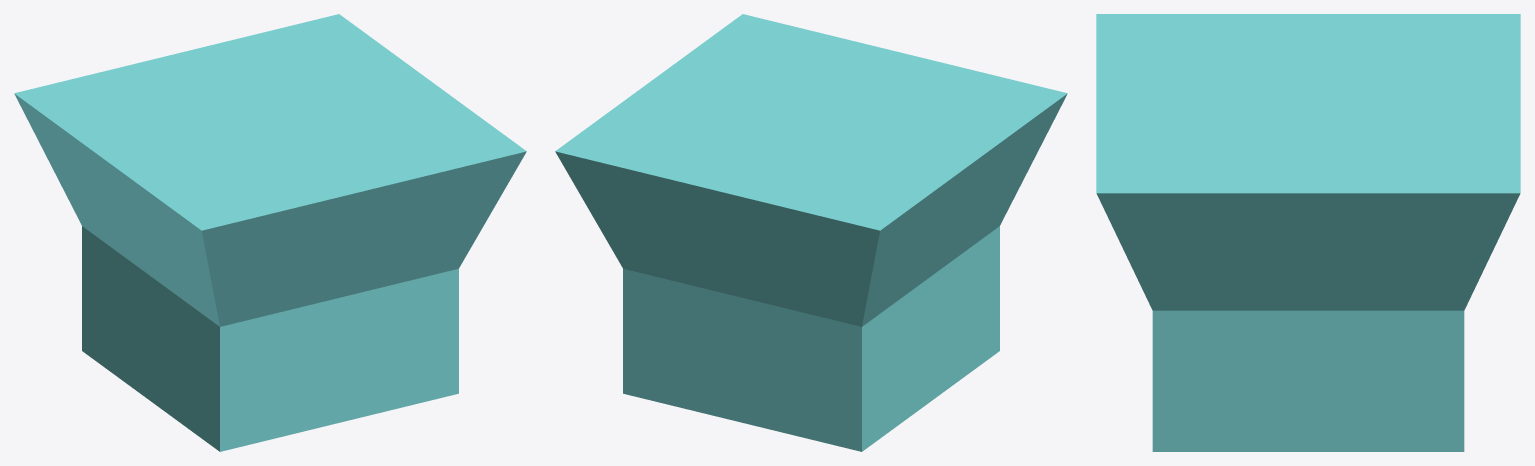
3 renders of one model, left to right at view 1: azimuth 30°, elevation 25°; view 2: azimuth 150°, elevation 25°; view 3: azimuth 270°, elevation 25°, orthographic. The views are drawn at different scales.
Parts seen in each view (by area): view 1: Cube; view 2: Cube; view 3: Cube.
Part boxes in pixels (x1=…): Cube: x1=14, y1=14, x2=526, y2=451; Cube: x1=555, y1=14, x2=1067, y2=451; Cube: x1=1096, y1=14, x2=1520, y2=451.
Size of the model in its own units: 0.1849 by 0.1359 by 0.1849.
